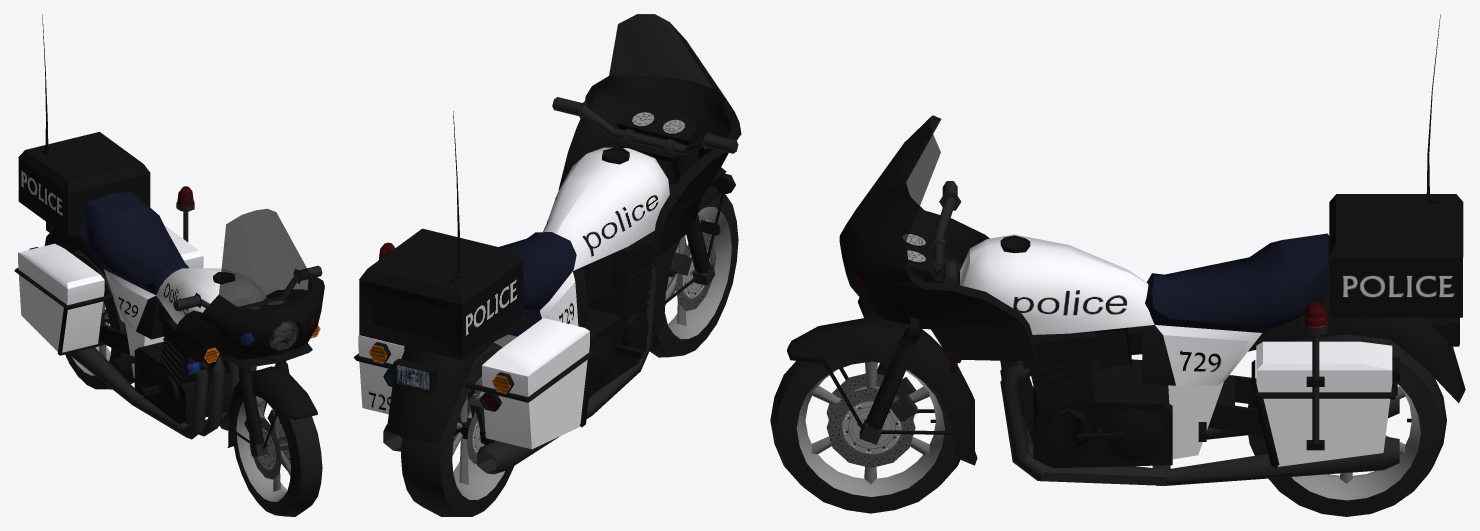
The model's file is motorbike3.FBX.
3 renders of one model, left to right at view 1: azimuth 30°, elevation 25°; view 2: azimuth 150°, elevation 25°; view 3: azimuth 270°, elevation 25°, orthographic. The views are drawn at different scales.
Parts seen in each view (by area): view 1: Body, FrontWheel, AxleFront, BackWheel, Steer, Rear; view 2: Body, BackWheel, FrontWheel, AxleFront, Steer, Rear; view 3: Body, AxleFront, FrontWheel, BackWheel, Steer, Rear.
Part boxes in pixels (<box>): Body: <box>14,14,324,439</box>; FrontWheel: <box>231,396,322,516</box>; AxleFront: <box>227,363,317,479</box>; BackWheel: <box>65,249,134,389</box>; Steer: <box>173,265,322,374</box>; Rear: <box>98,309,129,354</box>; Body: <box>353,14,741,474</box>; BackWheel: <box>401,342,514,516</box>; FrontWheel: <box>649,194,738,357</box>; AxleFront: <box>645,186,724,337</box>; Steer: <box>552,97,738,182</box>; Rear: <box>454,389,495,445</box>; Body: <box>839,14,1465,485</box>; AxleFront: <box>787,318,977,467</box>; FrontWheel: <box>770,359,960,513</box>; BackWheel: <box>1248,334,1446,516</box>; Steer: <box>901,181,961,344</box>; Rear: <box>1208,375,1263,436</box>.
Size of the model in its own units: 5.48 by 12.12 by 15.9.
